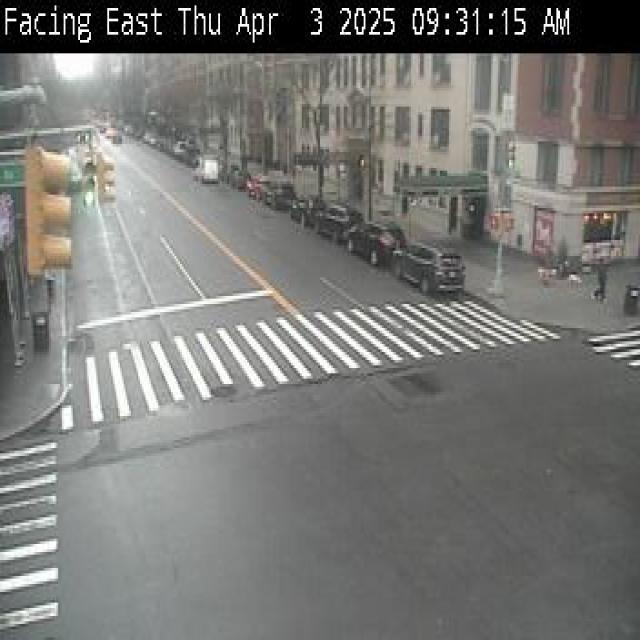open parking: (228, 166, 506, 324)
